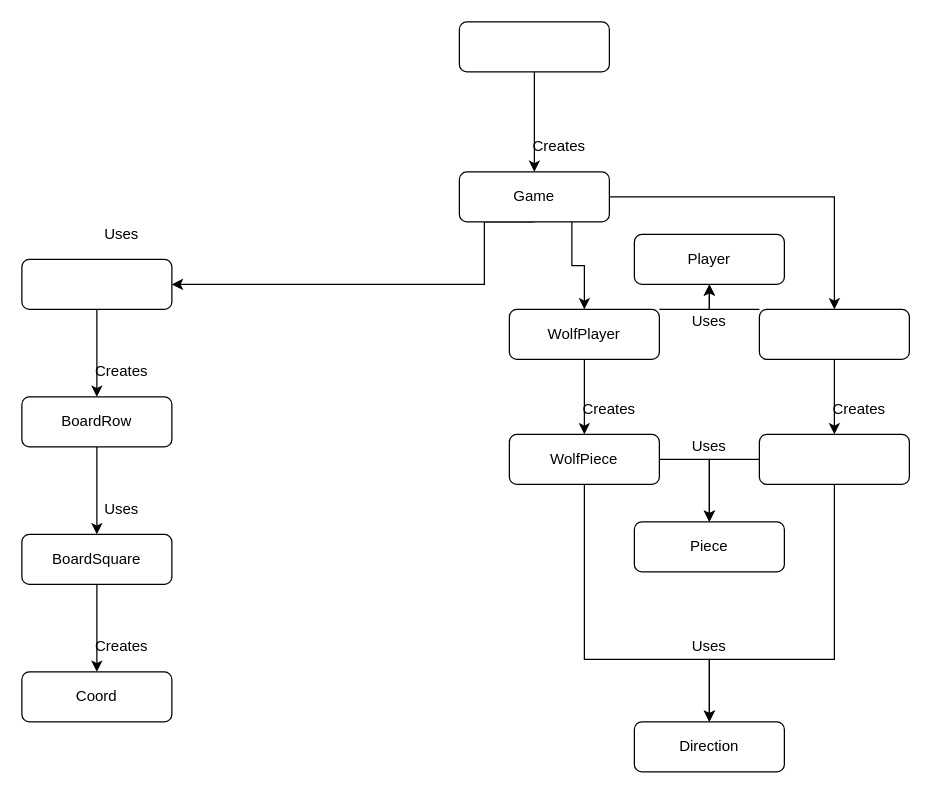
Image size: 931x794. Some labels were removed from this diagram. Each missing label, with the centre of its shape:
"Board" goes at point (96, 283).
"Program" goes at point (533, 46).
"SheepPiece" goes at point (833, 458).
"SheepPlayer" goes at point (833, 333).
